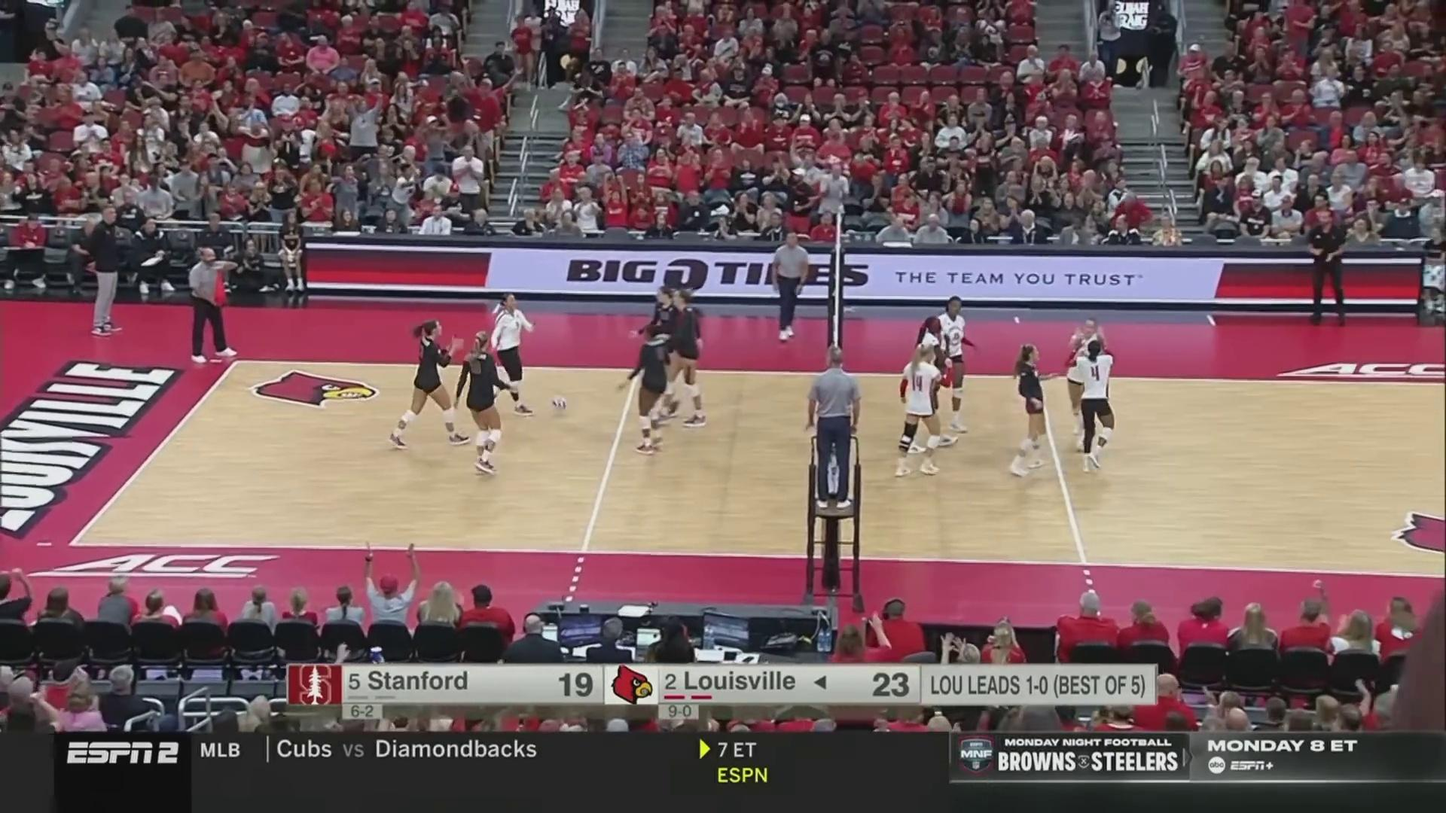player: (392, 319, 472, 451), (918, 296, 981, 430), (453, 334, 513, 472), (902, 315, 959, 453), (895, 345, 953, 478), (1065, 335, 1118, 473), (637, 285, 698, 403), (1007, 343, 1059, 478), (619, 325, 672, 453), (664, 288, 707, 427), (488, 292, 536, 416), (1066, 318, 1107, 453)
refree: (807, 347, 860, 509), (188, 243, 243, 365), (770, 230, 807, 340)
